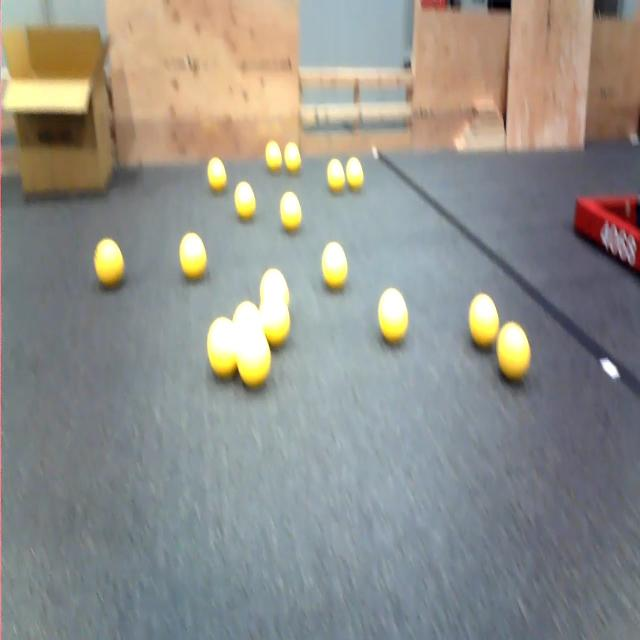fuel: (237, 327, 270, 387), (497, 322, 530, 381), (207, 317, 237, 379), (378, 288, 408, 343), (469, 294, 499, 348), (260, 296, 290, 348), (94, 239, 124, 287), (179, 232, 206, 279), (322, 242, 347, 288), (260, 269, 289, 305), (233, 301, 261, 332), (280, 192, 301, 232), (234, 182, 255, 220), (326, 158, 346, 193), (207, 158, 226, 191), (346, 157, 363, 190), (265, 141, 282, 171), (284, 143, 301, 172)
